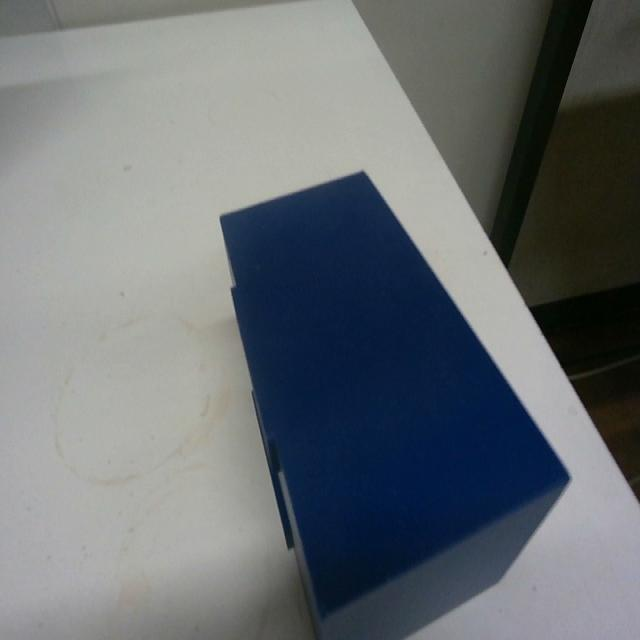Blue Cuboid: (217, 165, 572, 636)
